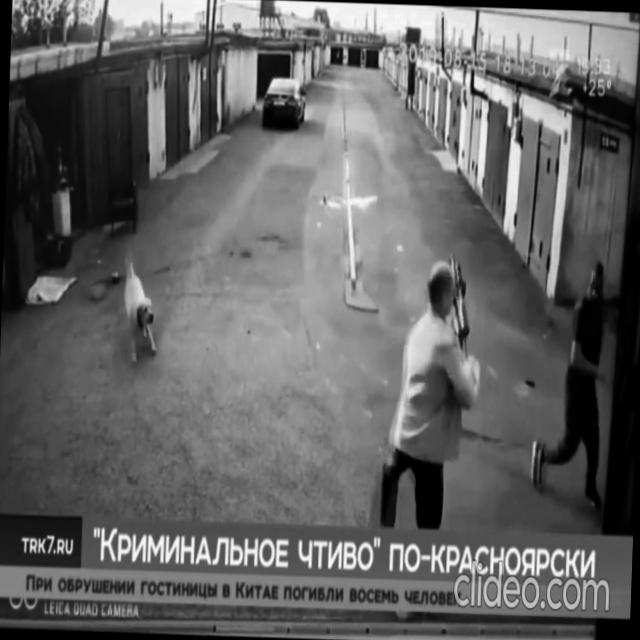gun: (440, 252, 474, 380)
person: (530, 256, 616, 518)
person with a gun: (376, 248, 484, 526)
